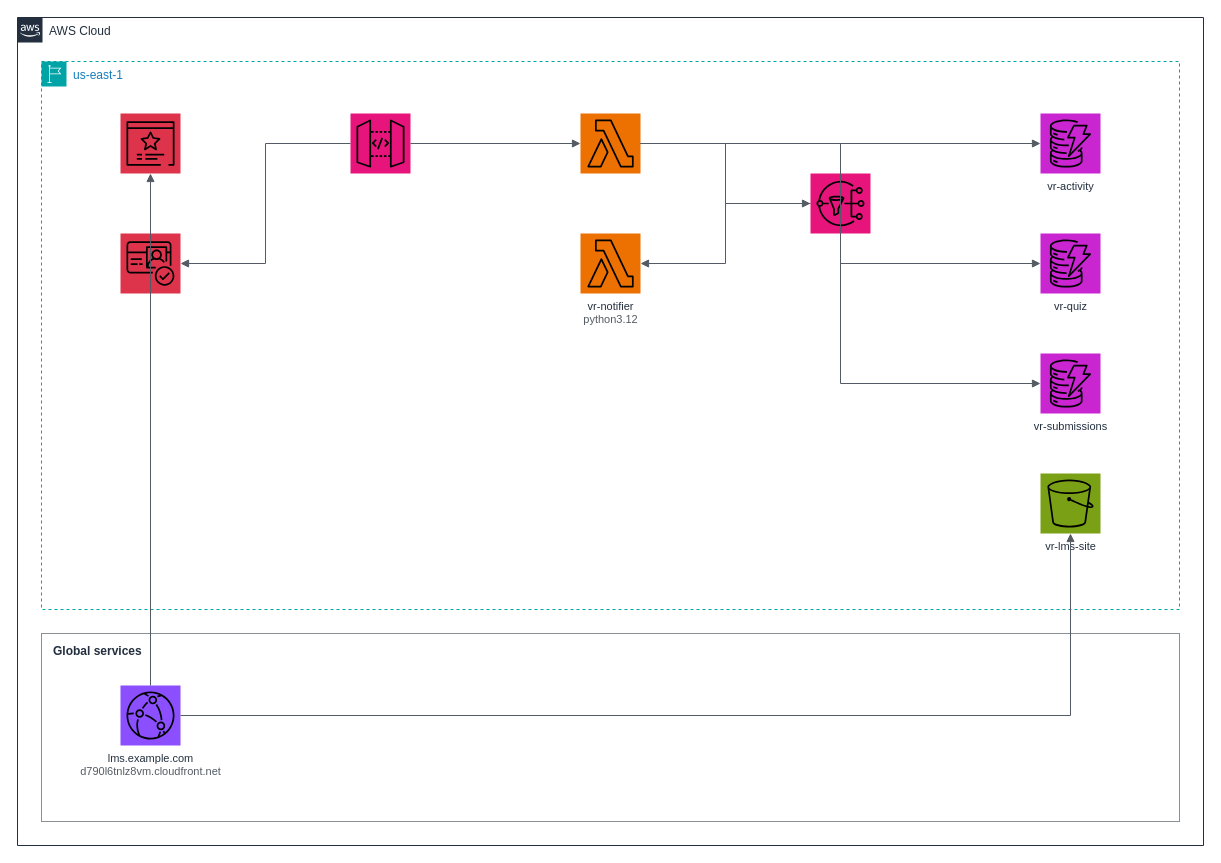
Image size: 1221x863. Some labels were removed from this diagram. The shapes that lost their labels are listed below. From the top down, each one's centre as x and y in pixels, then its label:
At pixel 150 143: "lms.example.com pending validation".
At pixel 380 143: "vr-activity-api HTTP API".
At pixel 610 143: "vr-activity-fn python3.12".
At pixel 840 203: "vr-daily-submissions".
At pixel 150 263: "lms-users User pool".
